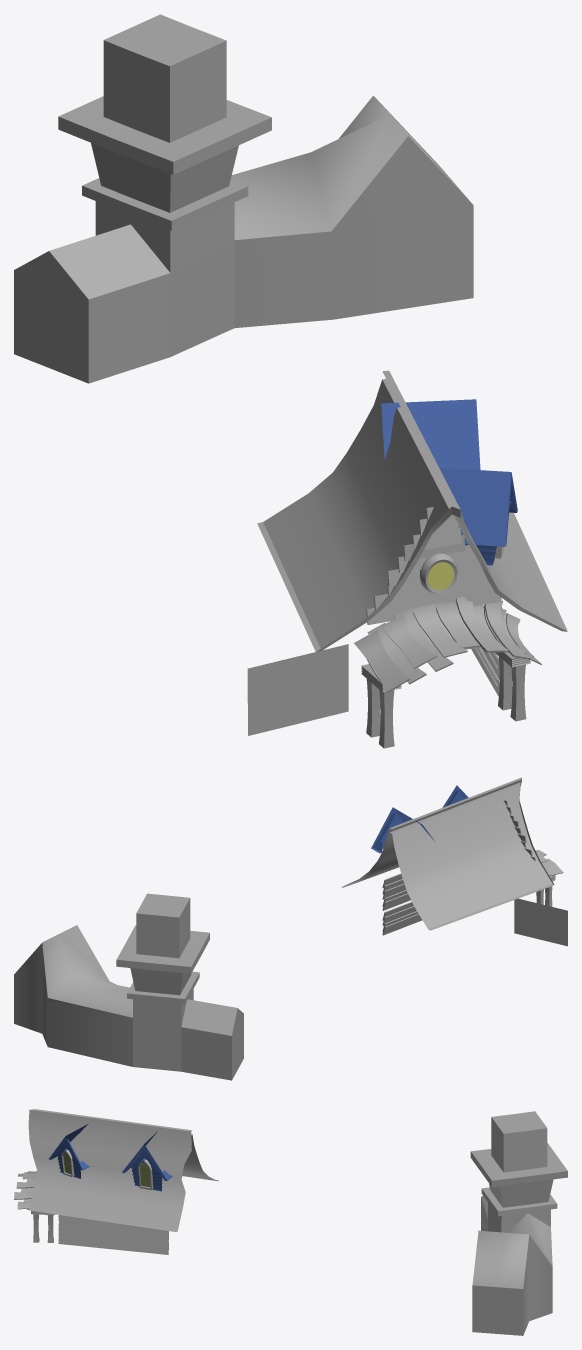
File: ggeerr.fbx
3 renders of one model, top to bottom at view 1: azimuth 30°, elevation 25°; view 2: azimuth 150°, elevation 25°; view 3: azimuth 270°, elevation 25°, orthographic. The views are drawn at different scales.
Visible parts, largest first — view 1: pCube1, pCube86, polySurface35, pPlane32, pCube50, pCube51, pillar4, pCube96, clock:pCylinder1, pCube89, pCube88, pCube97; view 2: pCube1, pCube86, pPlane32, pCube84, pCube51; view 3: pCube1, pCube86, pCube84, pCube51, pCube50, polySurface35, pillar4.
Part boxes in pixels (x1,y1,x2,y2): pCube1: (14, 14, 473, 383); pCube86: (257, 370, 567, 651); polySurface35: (354, 596, 541, 692); pPlane32: (247, 644, 348, 735); pCube50: (439, 467, 517, 565); pCube51: (381, 399, 480, 469); pillar4: (366, 656, 526, 748); pCube96: (374, 580, 493, 611); clock:pCylinder1: (419, 553, 457, 593); pCube89: (387, 566, 487, 596); pCube88: (387, 559, 481, 586); pCube97: (366, 591, 501, 624); pCube1: (14, 893, 243, 1080); pCube86: (341, 777, 554, 930); pPlane32: (514, 898, 567, 946); pCube84: (382, 873, 422, 935); pCube51: (371, 807, 434, 853); pCube1: (470, 1111, 567, 1335); pCube86: (28, 1109, 218, 1232); pCube84: (58, 1215, 168, 1254); pCube51: (122, 1131, 172, 1191); pCube50: (49, 1123, 90, 1178); polySurface35: (14, 1171, 36, 1209); pillar4: (33, 1214, 53, 1242).
Bounding box in the file's own units: 26.91 × 12.64 × 41.46.
